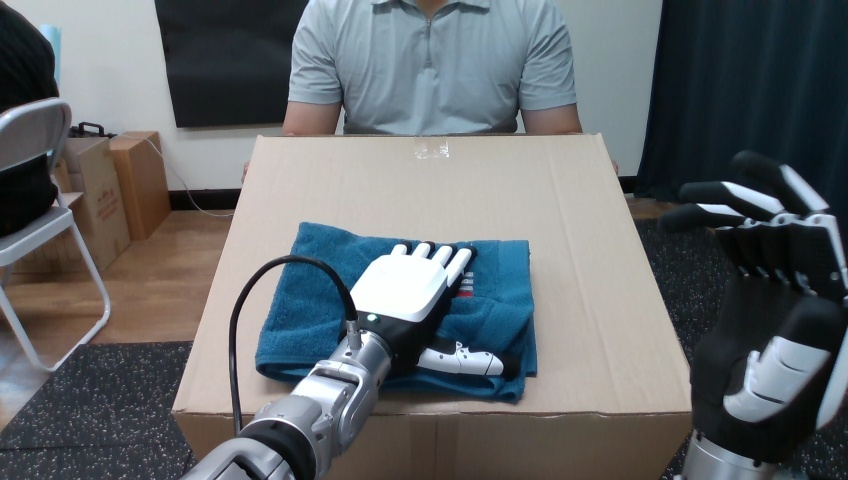left robot hand: (183, 243, 472, 479), (660, 151, 847, 479)
